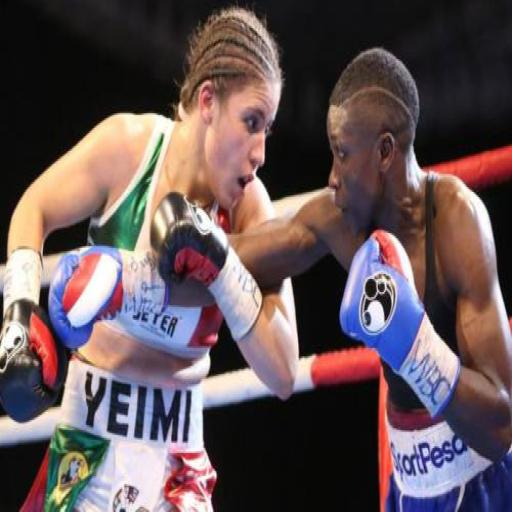boxing: (130, 51, 511, 512), (0, 8, 298, 512)
